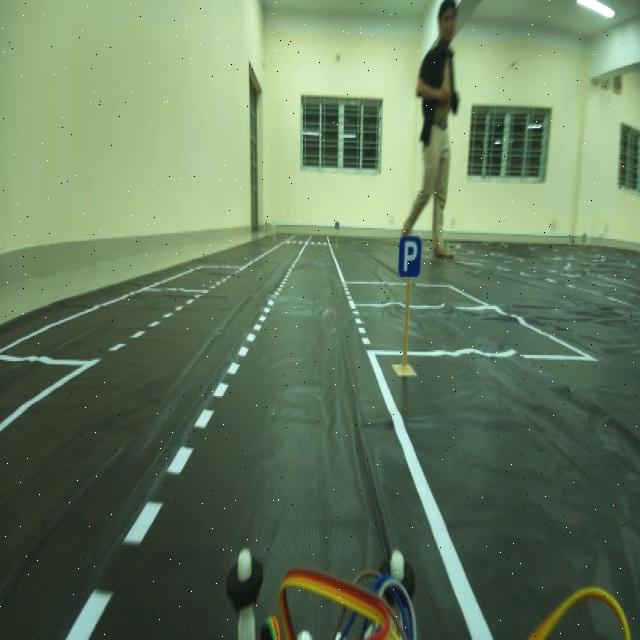parking: (398, 228, 425, 288)
